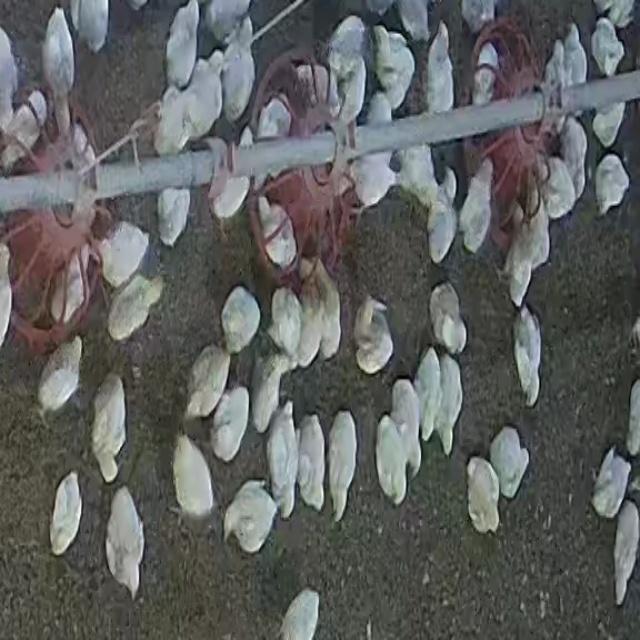chicken: (503, 195, 549, 307), (324, 16, 369, 125), (42, 7, 77, 146), (105, 487, 145, 598), (358, 95, 397, 207), (222, 479, 278, 554), (370, 22, 416, 112), (92, 374, 129, 485), (38, 334, 84, 422), (186, 48, 229, 142), (219, 19, 257, 125), (303, 258, 341, 364), (106, 274, 163, 343), (171, 435, 217, 520), (264, 404, 300, 512), (96, 221, 152, 290), (0, 91, 47, 170), (393, 132, 439, 212), (327, 410, 359, 520), (457, 160, 494, 254), (208, 385, 252, 464), (186, 346, 231, 423), (163, 1, 201, 92), (352, 294, 393, 375), (375, 416, 411, 508), (296, 412, 328, 515), (512, 307, 544, 409), (218, 284, 262, 355), (489, 426, 530, 501), (390, 378, 422, 473), (424, 21, 456, 116), (257, 197, 297, 272), (590, 447, 632, 517), (428, 282, 466, 357), (436, 351, 464, 452), (267, 286, 304, 362), (251, 358, 287, 436), (50, 472, 83, 557), (612, 501, 639, 604), (466, 458, 502, 534), (54, 249, 88, 329), (156, 173, 192, 246), (414, 347, 441, 442), (558, 118, 588, 203), (593, 152, 631, 217), (209, 166, 252, 223), (541, 156, 578, 222), (202, 1, 254, 47), (426, 192, 456, 267), (590, 14, 625, 76), (71, 0, 110, 53), (560, 22, 589, 92), (472, 41, 500, 106), (542, 34, 567, 102), (591, 104, 627, 151), (255, 97, 292, 141), (71, 121, 97, 172), (24, 89, 48, 135)
